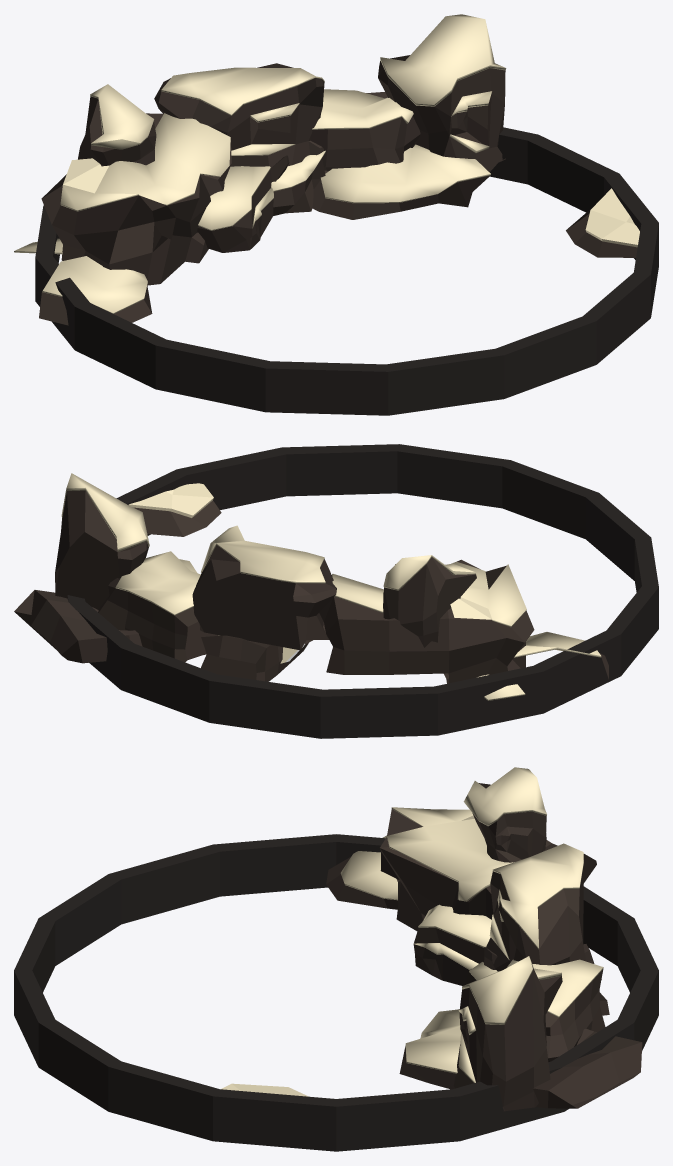
The model's file is Mountains.gltf.
3 renders of one model, top to bottom at view 1: azimuth 30°, elevation 25°; view 2: azimuth 150°, elevation 25°; view 3: azimuth 270°, elevation 25°, orthographic. The views are drawn at different scales.
Parts seen in each view (by area): view 1: Cube.023; view 2: Cube.023; view 3: Cube.023.
Boxes of the visible parts, box(x1,y1,x2,y2) form: Cube.023: box(14, 14, 658, 415); Cube.023: box(14, 444, 658, 738); Cube.023: box(14, 767, 658, 1151).
Size of the model in its own units: 80.82 by 22.64 by 79.14.
1 material, 1 textured.
